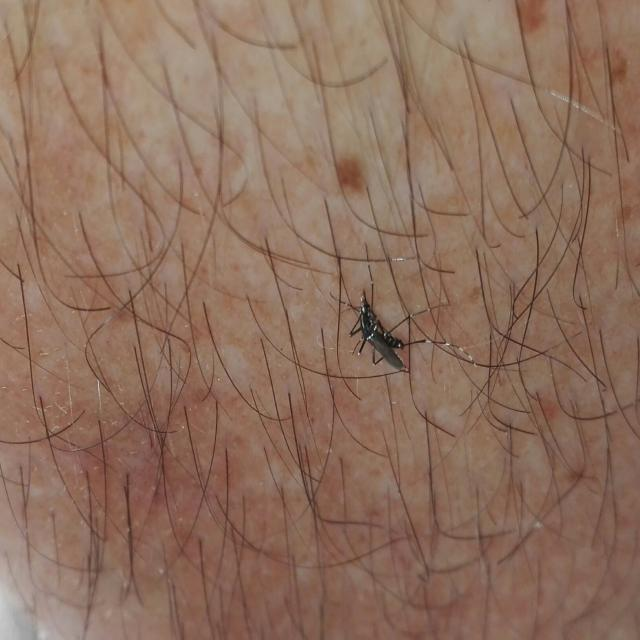albopictus: (326, 264, 413, 375)
